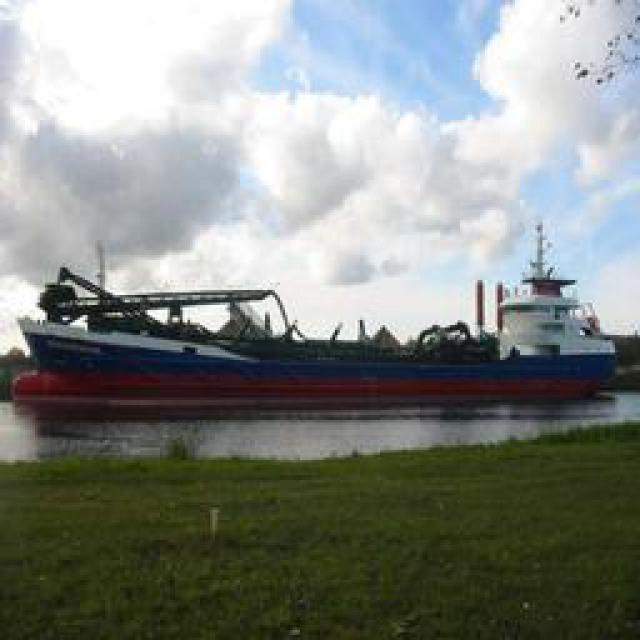Ship: (14, 260, 627, 430)
